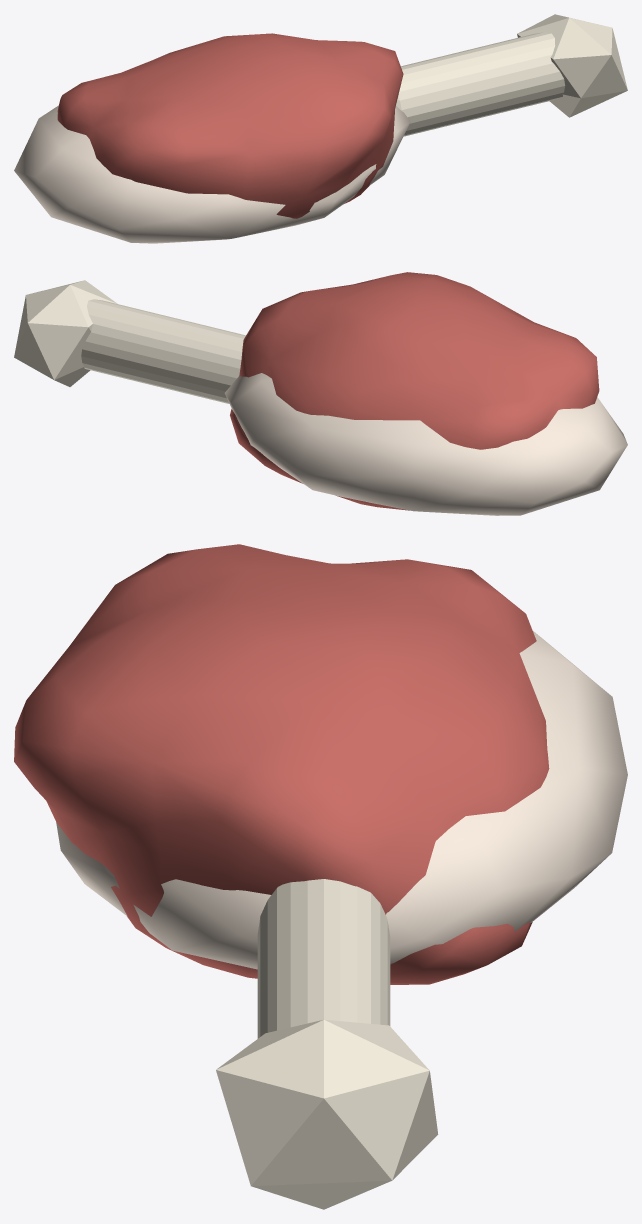
Rendered from critter_meat.glb.
3 views of the same model, one above another, from view 1: azimuth 30°, elevation 25°; view 2: azimuth 150°, elevation 25°; view 3: azimuth 270°, elevation 25° (orthographic). The views are drawn at different scales.
Visible parts, largest first — view 1: model; view 2: model; view 3: model.
Part boxes in pixels (x1,y1,x2,y2): model: [14, 14, 627, 243]; model: [14, 272, 627, 515]; model: [14, 544, 627, 1209].
Size of the model in its own units: 0.3583 by 0.1039 by 0.1748.
